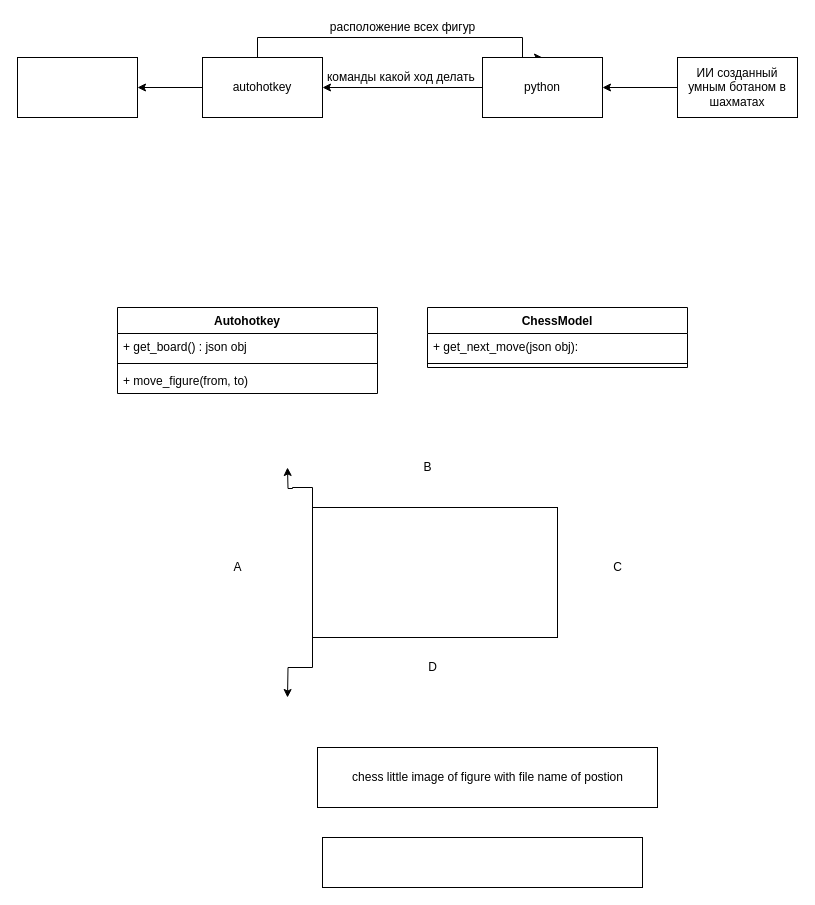
This 815x905 diagram has some shape labels left out. Here are the shapes that lost their labels. From the top down, the centre of each, then its label:
the point at 77,87: chess.com в окне браузера
the point at 435,572: Прямоугольник
the point at 482,862: Object
